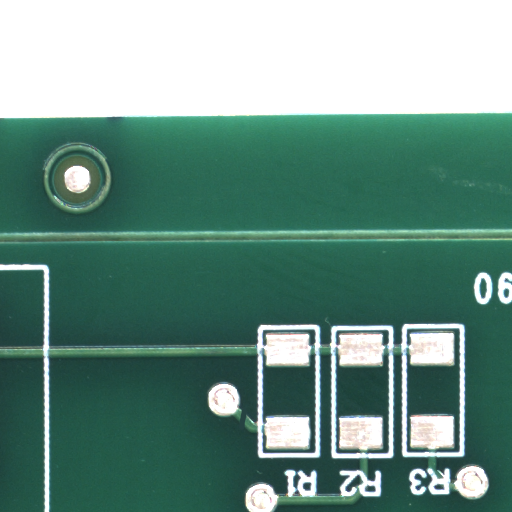Open_circuit: (242, 418, 253, 440)
